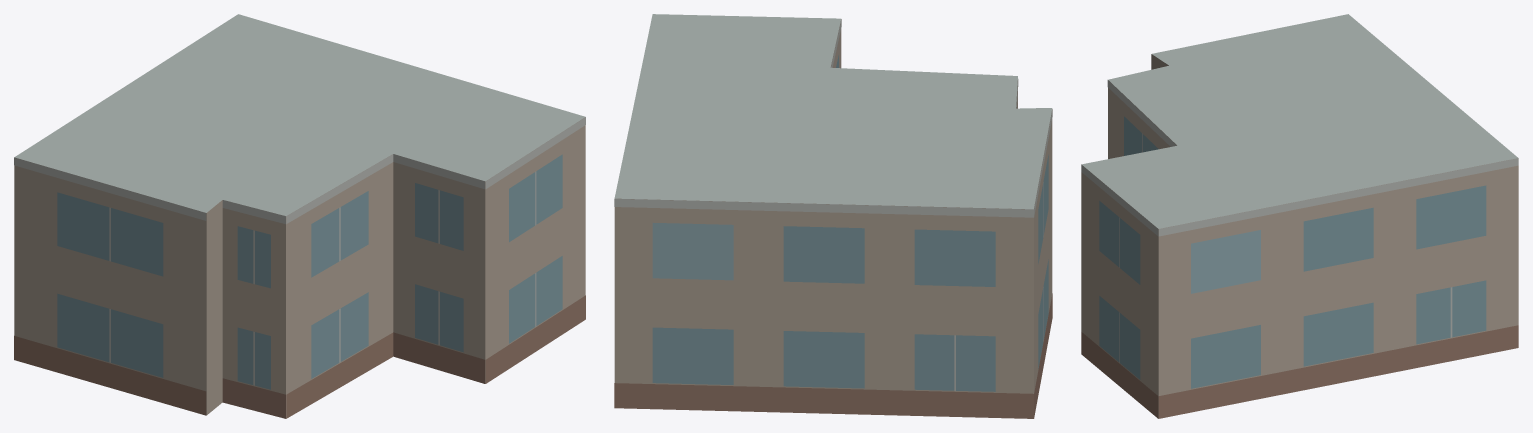
Rendered from survey-upis-32938248.glb.
3 renders of one model, left to right at view 1: azimuth 30°, elevation 25°; view 2: azimuth 150°, elevation 25°; view 3: azimuth 270°, elevation 25°, orthographic. The views are drawn at different scales.
Parts seen in each view (by area): view 1: survey-upis-32938248.tmp; view 2: survey-upis-32938248.tmp; view 3: survey-upis-32938248.tmp.
Part boxes in pixels (box(x1,y1,x2,y2)): survey-upis-32938248.tmp: box(14, 14, 585, 418); survey-upis-32938248.tmp: box(614, 14, 1052, 418); survey-upis-32938248.tmp: box(1081, 14, 1518, 418).
Size of the model in its own units: 14.82 by 6.1 by 12.74.
